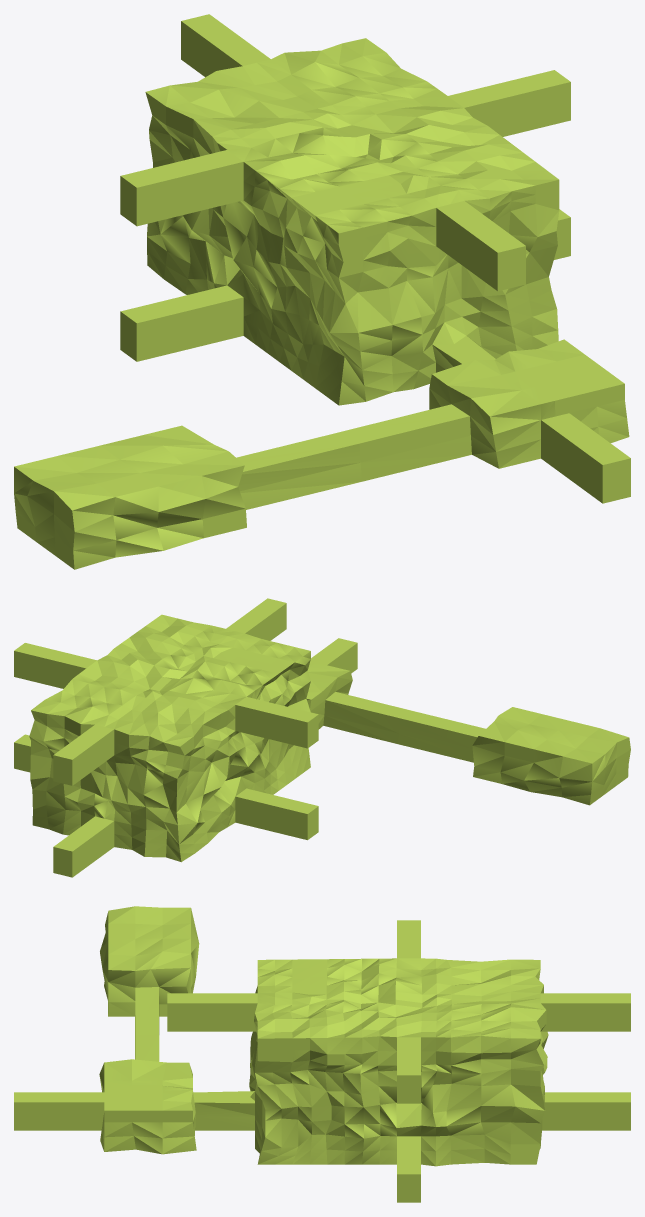
The model's file is TreeLevel(1).fbx.
3 views of the same model, one above another, from view 1: azimuth 30°, elevation 25°; view 2: azimuth 150°, elevation 25°; view 3: azimuth 270°, elevation 25° (orthographic). The views are drawn at different scales.
Visible parts, largest first — view 1: Cube__4_; view 2: Cube__4_; view 3: Cube__4_.
Boxes of the visible parts, bbox=[...] form: Cube__4_: bbox=[14, 14, 630, 569]; Cube__4_: bbox=[14, 598, 630, 877]; Cube__4_: bbox=[14, 906, 630, 1202].
Size of the model in its own units: 13475 by 14043 by 3421.
